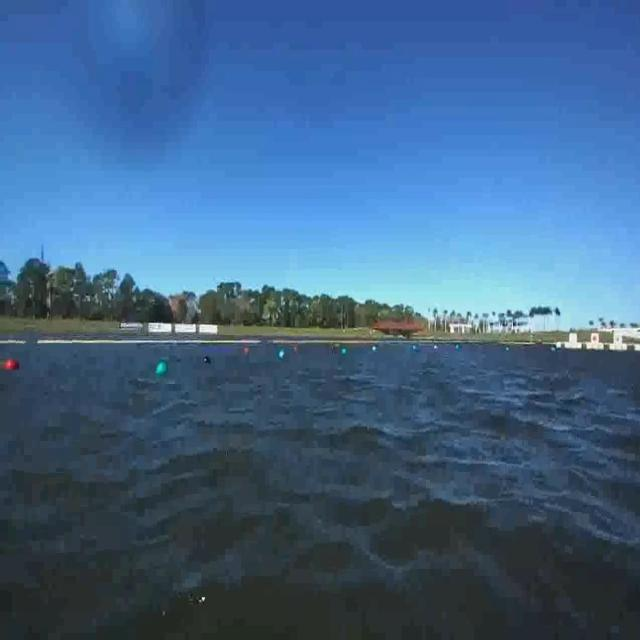green-buoy: (158, 360, 170, 376)
red-buoy: (5, 359, 19, 369)
